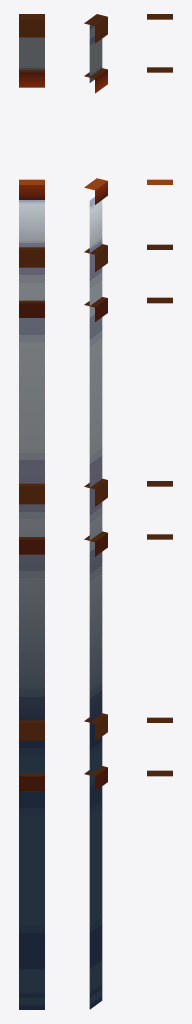
3 views of the same model, side by side, from view 1: azimuth 90°, elevation 25°; view 2: azimuth 150°, elevation 25°; view 3: azimuth 270°, elevation 25° (orthographic).
Bounding box in the file's own units: 0.5 × 42 × 1.
Materials: 2 (2 with a texture image).
